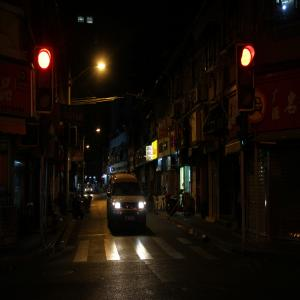Vehicle-registration-plate: (127, 217, 136, 222)
